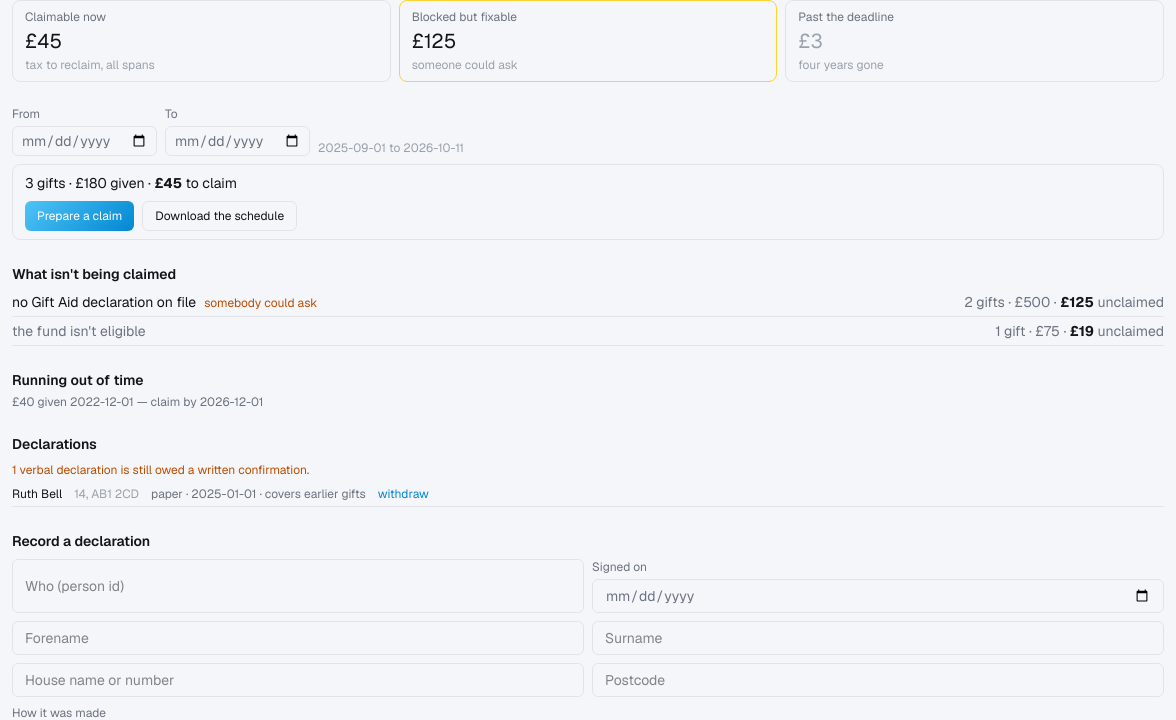
Test: when something goes wrong › shows the server's own refusal rather than swallowing it
This screenshot has width=1176, height=720.
expect the text "3 gifts · £180 given · £45 to claim" is shown: met, box [25,174,237,192]
Click the button "Prepare a claim" at (80, 216), box [25,201,134,231]
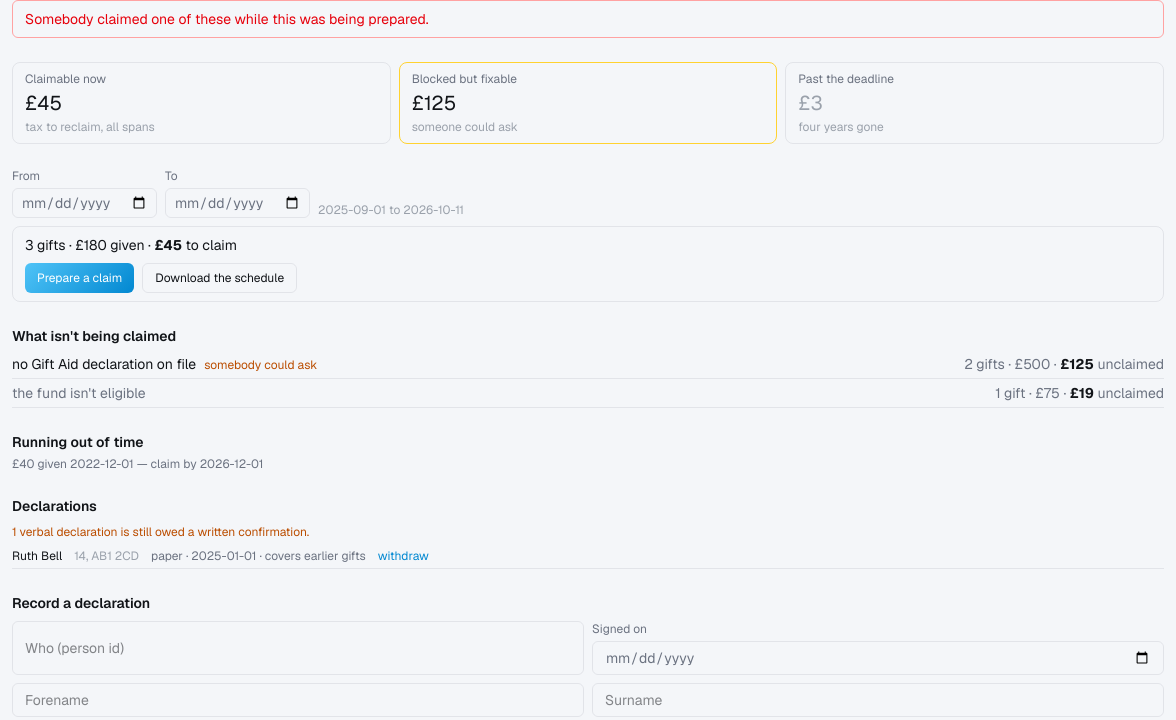
expect the text "Somebody claimed one of these while this was being prepared." is shown: met, box [12,0,1164,38]
